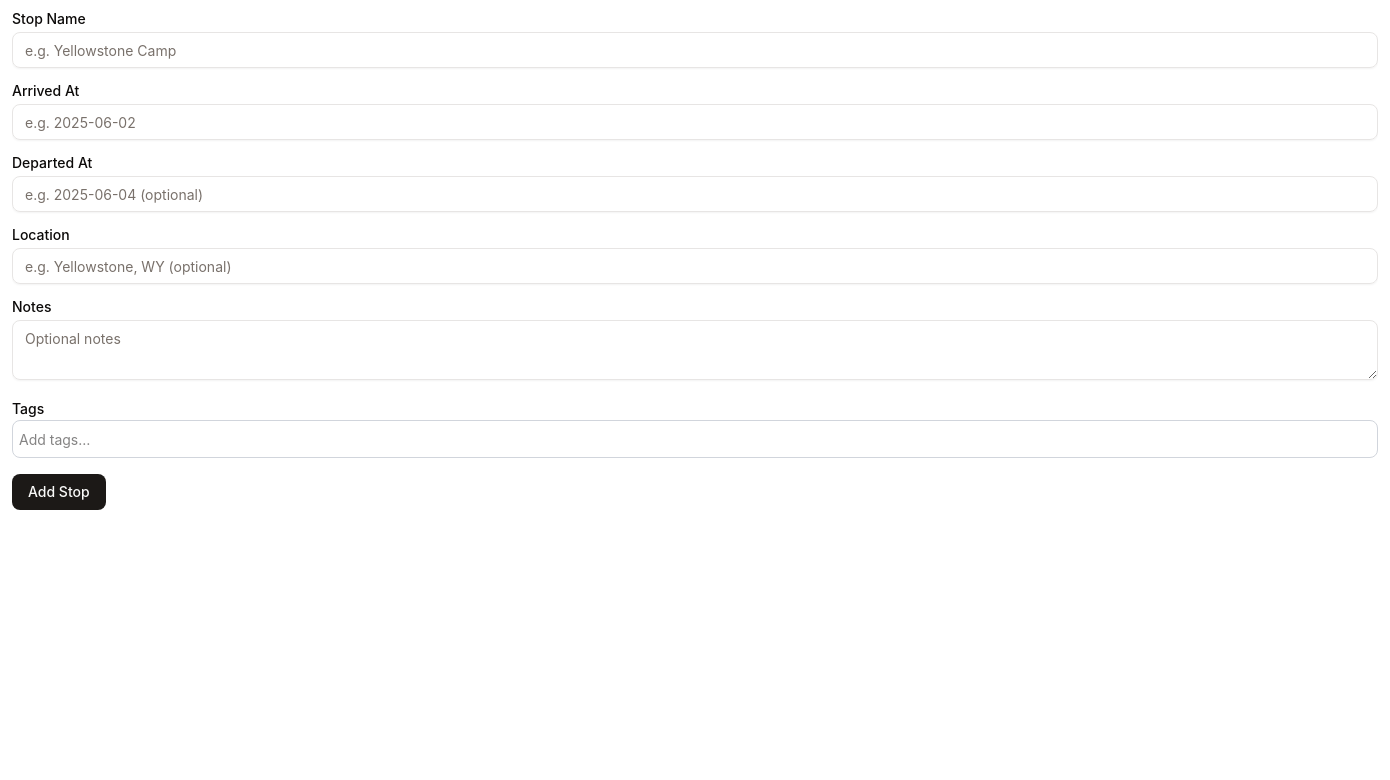
Test case: StopForm › shows a validation error when arrived_at is not in YYYY-MM-DD format
Type "Yellowstone Camp" into the field labelled "Stop Name" at (695, 50), box [12,32,1378,68]
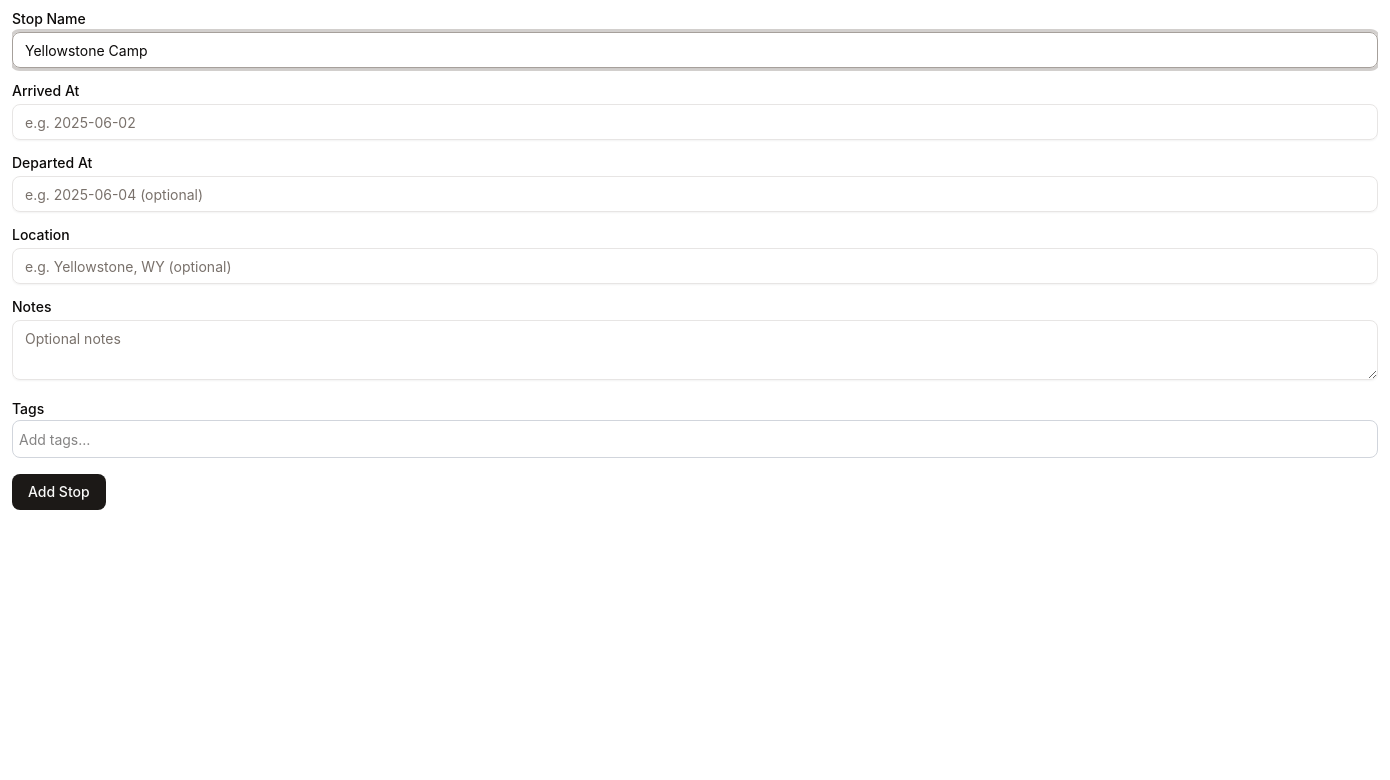
Type "06/02/2025" into the field labelled "Arrived At" at (695, 122), box [12,104,1378,140]
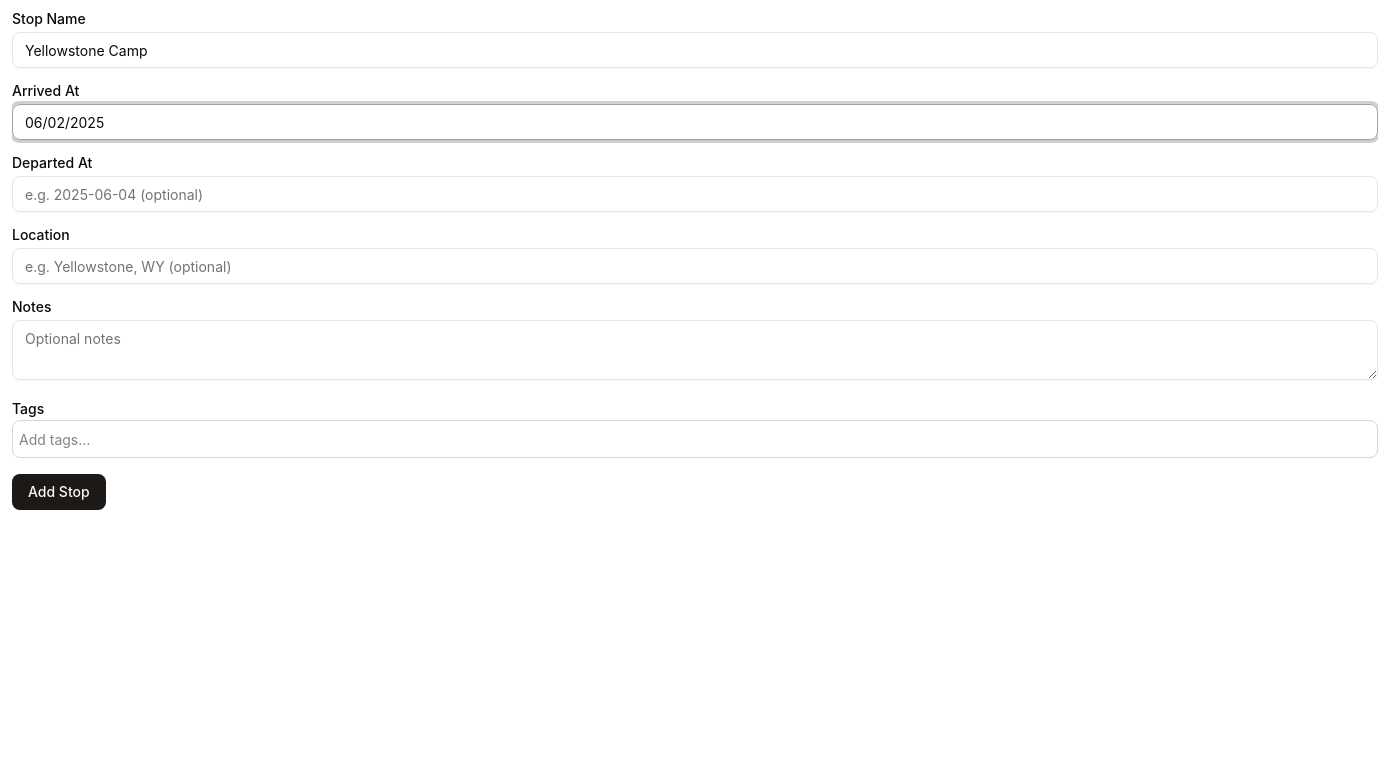
Click the button "Add Stop" at (59, 492), box [12,474,106,510]
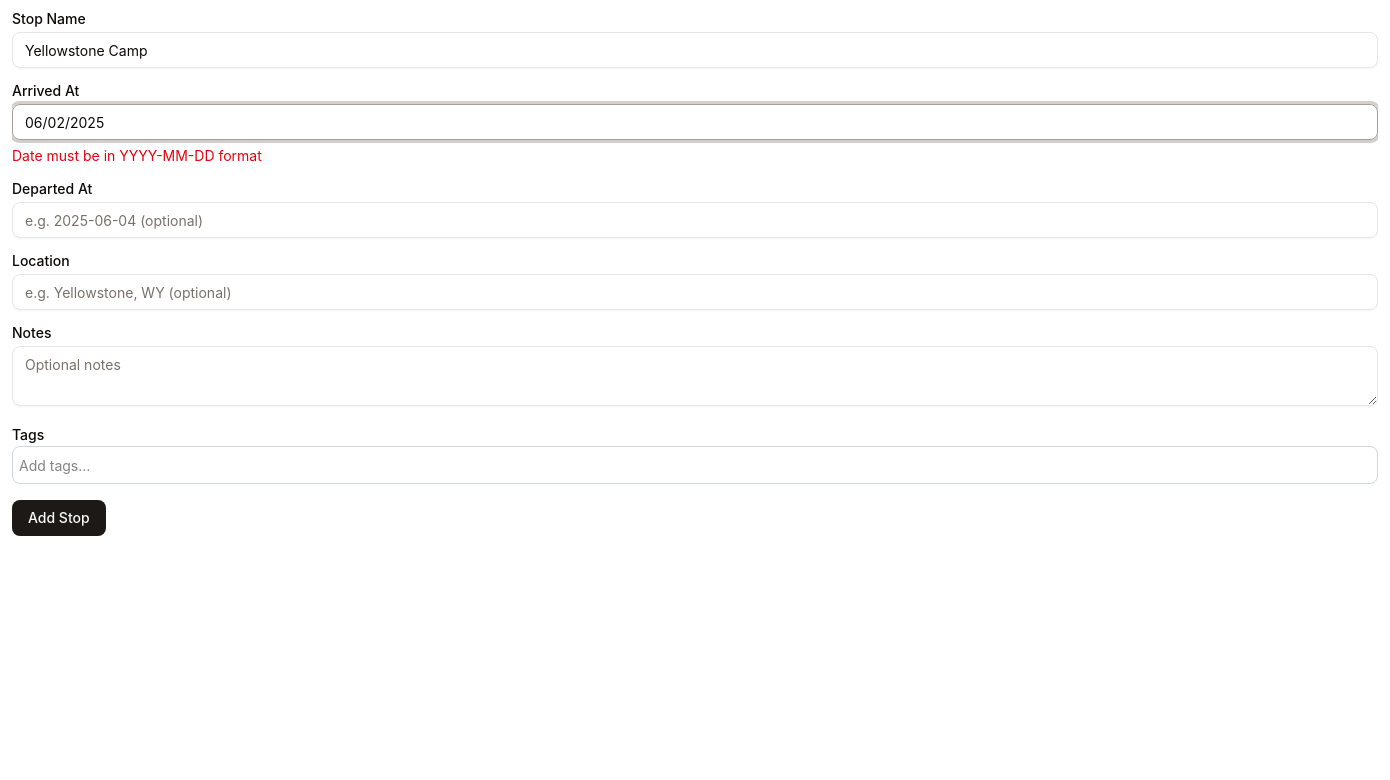
Expected: the text "Date must be in YYYY-MM-DD format" is shown, [12,147,262,164]
